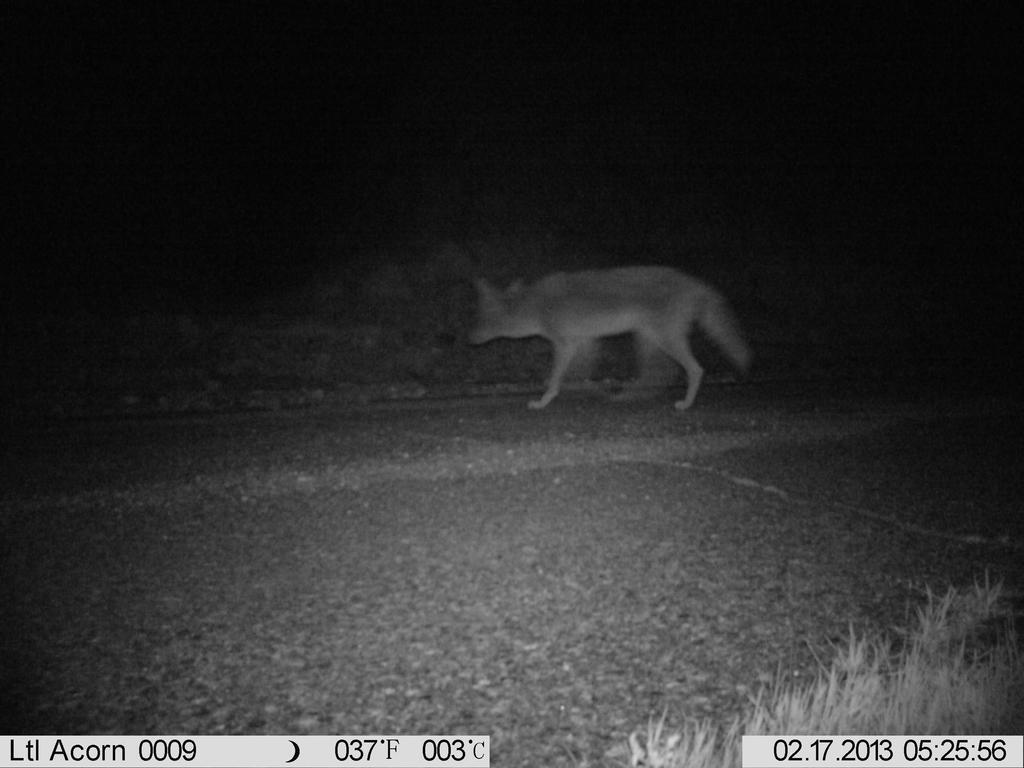coyote: (424, 246, 786, 446)
